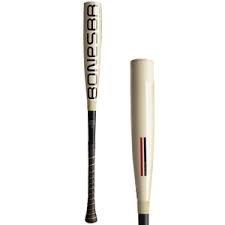baseball bat: (79, 1, 103, 225), (126, 56, 156, 225)
